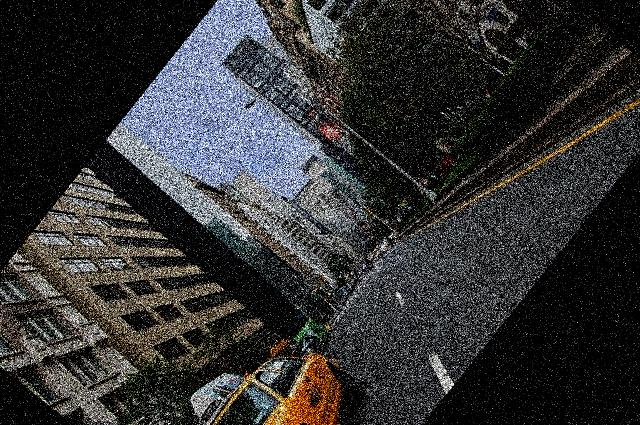taxi: (199, 352, 347, 425)
